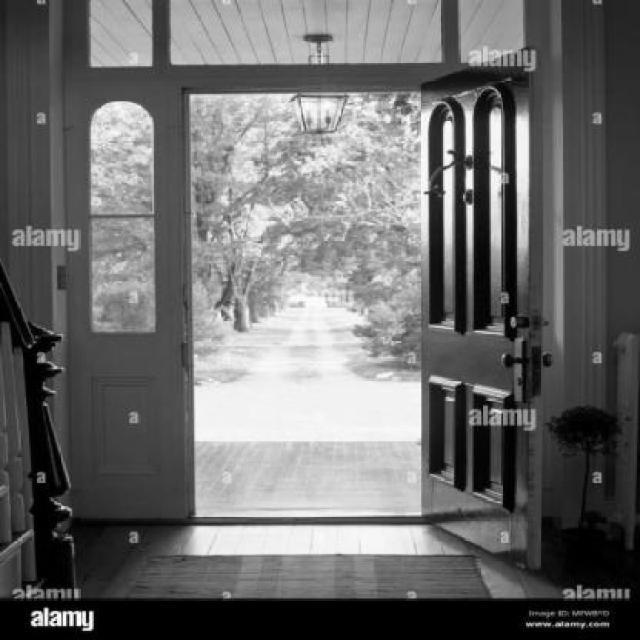door_handle: (496, 334, 534, 416)
